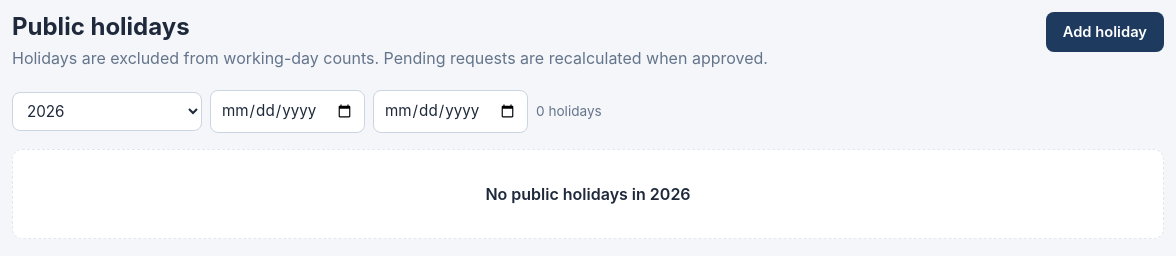
Test: HolidaysPage › shows a filtered empty state
Expected: the text "No public holidays in 2026" is shown, left=485, top=184, right=691, bottom=204
Type "2026-06-01" into the date field named "From date" at (288, 111), box left=210, top=90, right=365, bottom=133
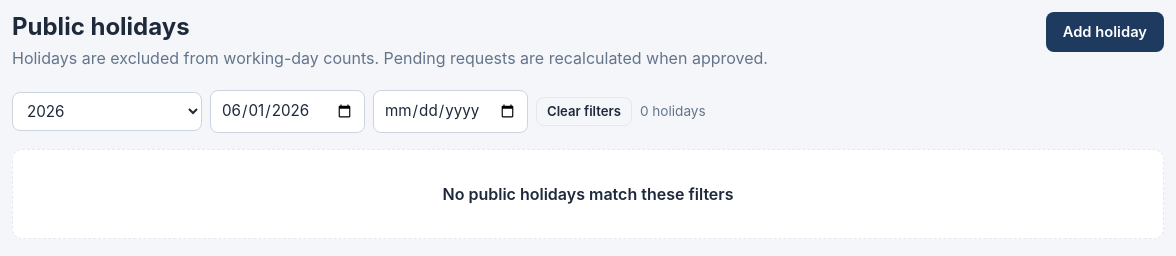
Expected: the text "No public holidays match these filters" is shown, left=442, top=184, right=733, bottom=204
